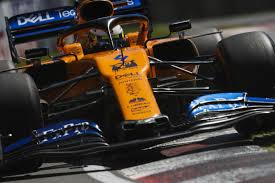f1_car: (1, 1, 275, 179)
